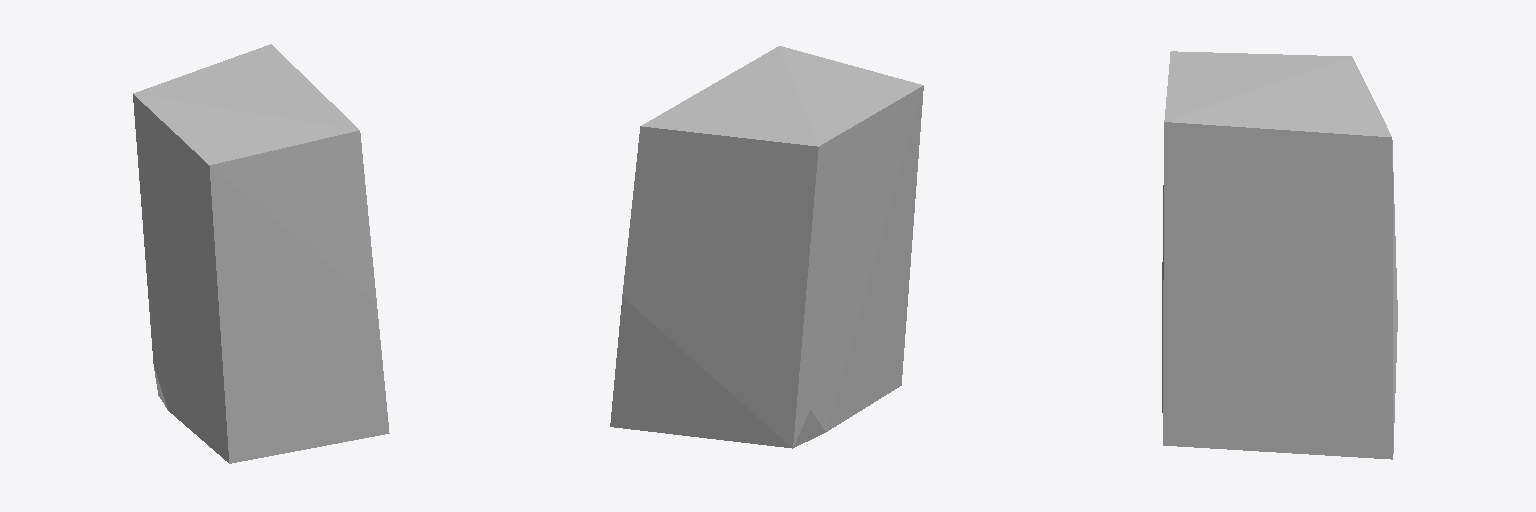
Rendered from trash_bin_collision_54.obj.
3 views of the same model, side by side, from view 1: azimuth 30°, elevation 25°; view 2: azimuth 150°, elevation 25°; view 3: azimuth 270°, elevation 25° (orthographic).
Size of the model in its own units: 0.0221 by 0.0327 by 0.0223.